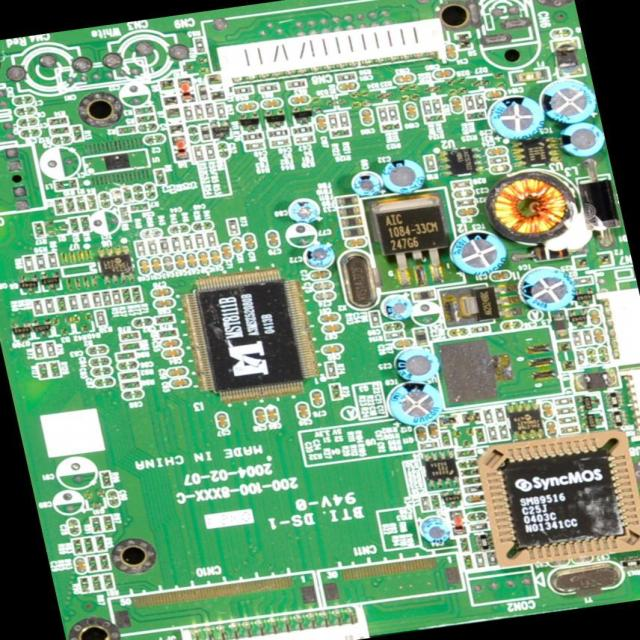Capacitor: (54, 455, 100, 490), (51, 488, 86, 518), (287, 93, 313, 108), (65, 516, 82, 538), (11, 92, 35, 107), (259, 98, 285, 111), (358, 108, 376, 126), (402, 102, 420, 120), (105, 489, 122, 508), (265, 405, 281, 425), (392, 74, 418, 86), (140, 226, 164, 239), (88, 355, 112, 368), (448, 96, 464, 115), (184, 251, 200, 270), (539, 400, 555, 419), (483, 88, 508, 100), (336, 80, 359, 93), (321, 343, 344, 356), (430, 69, 454, 81), (242, 233, 258, 251), (90, 366, 114, 378), (586, 308, 602, 326), (490, 269, 512, 282), (117, 359, 139, 372), (190, 220, 213, 232), (308, 268, 331, 280), (87, 344, 110, 356), (490, 162, 511, 175), (253, 407, 268, 425), (310, 389, 324, 408), (235, 102, 257, 114), (168, 223, 190, 235), (313, 290, 335, 302), (448, 326, 470, 338), (133, 316, 153, 329), (501, 319, 521, 332), (19, 128, 42, 139), (311, 280, 334, 291), (144, 182, 158, 200), (266, 230, 280, 248), (197, 250, 211, 268), (94, 376, 115, 388), (296, 402, 310, 420), (415, 426, 429, 444), (544, 420, 558, 438), (150, 287, 172, 298), (229, 238, 244, 254), (162, 336, 182, 348), (150, 256, 164, 273), (138, 258, 152, 275), (162, 255, 176, 272), (208, 249, 222, 266), (315, 114, 328, 132), (132, 183, 145, 201), (74, 556, 87, 574), (453, 188, 474, 199), (457, 207, 478, 218), (153, 298, 174, 309), (322, 322, 343, 333), (394, 338, 415, 349), (464, 494, 485, 505), (467, 511, 488, 522), (320, 312, 339, 324), (172, 254, 186, 270), (592, 327, 605, 344), (486, 146, 506, 157), (457, 458, 477, 469), (17, 118, 38, 128), (345, 238, 366, 248), (161, 349, 182, 359), (169, 378, 190, 388), (216, 413, 230, 428), (221, 244, 233, 261), (122, 390, 142, 400), (15, 107, 37, 116), (383, 321, 401, 332), (597, 347, 610, 362), (168, 366, 187, 376), (427, 424, 440, 438), (550, 558, 570, 567), (586, 348, 598, 363), (572, 555, 591, 564)
Connector: (597, 286, 639, 368), (623, 365, 639, 444)
IC: (176, 262, 323, 405), (498, 448, 626, 550), (420, 450, 461, 490), (506, 400, 545, 442), (99, 246, 137, 284), (511, 137, 560, 166), (440, 147, 486, 176)
Resistor Network: (269, 136, 292, 150), (387, 104, 402, 124), (243, 140, 267, 152), (94, 308, 108, 328), (128, 201, 151, 213), (33, 253, 48, 271), (497, 422, 512, 440), (462, 94, 476, 113), (202, 143, 216, 162), (295, 134, 317, 146), (154, 314, 176, 326), (572, 275, 594, 287), (215, 101, 228, 121), (102, 514, 115, 534), (376, 106, 390, 124), (472, 93, 486, 111), (46, 252, 60, 270), (204, 230, 218, 248), (91, 290, 105, 308), (129, 285, 143, 303), (324, 361, 338, 379), (574, 348, 588, 366), (99, 470, 113, 488), (438, 430, 452, 448), (461, 474, 482, 486), (78, 576, 92, 594), (227, 217, 240, 236), (488, 155, 510, 166), (119, 331, 141, 342), (120, 380, 142, 391), (559, 424, 581, 435), (556, 405, 576, 417), (420, 99, 434, 116), (66, 294, 80, 311), (71, 538, 85, 555), (97, 554, 111, 571), (193, 104, 206, 122), (121, 185, 134, 203), (424, 155, 437, 173), (45, 340, 58, 358), (330, 382, 343, 400), (91, 516, 104, 534), (451, 179, 472, 190), (337, 112, 351, 128), (153, 170, 167, 186), (84, 194, 98, 210), (117, 206, 131, 222), (32, 343, 46, 359), (570, 331, 584, 347), (481, 408, 495, 424), (192, 145, 205, 162), (55, 296, 68, 313), (48, 361, 61, 378), (474, 427, 487, 444), (486, 425, 499, 442), (157, 328, 179, 338), (118, 372, 140, 382), (417, 440, 439, 450), (462, 484, 482, 495), (75, 195, 87, 213), (135, 239, 147, 257), (203, 103, 216, 119), (64, 197, 77, 213), (158, 237, 171, 253), (171, 236, 184, 252), (37, 363, 50, 379), (431, 98, 443, 115), (110, 288, 122, 305), (120, 287, 132, 304), (493, 406, 505, 423), (94, 535, 106, 552), (430, 494, 442, 511), (87, 555, 99, 572), (456, 198, 476, 208), (121, 341, 141, 351), (115, 351, 135, 361), (554, 396, 574, 406), (459, 467, 479, 477), (327, 114, 340, 129), (33, 222, 46, 237), (32, 300, 45, 315), (182, 106, 194, 122), (79, 216, 91, 232), (23, 255, 35, 271), (147, 239, 159, 255), (194, 232, 206, 248), (182, 234, 194, 250), (80, 293, 92, 309), (369, 310, 381, 326), (582, 330, 594, 346), (91, 574, 103, 590), (102, 574, 114, 590), (458, 538, 470, 554), (456, 448, 475, 458), (469, 522, 488, 532), (69, 218, 81, 233), (385, 331, 405, 340), (559, 415, 577, 425), (83, 538, 95, 553), (420, 496, 432, 511), (101, 290, 112, 306), (463, 554, 474, 570), (43, 298, 55, 312), (54, 198, 65, 213), (487, 551, 498, 566), (474, 553, 485, 568)
Transistor: (571, 284, 595, 308), (452, 428, 477, 450), (39, 269, 61, 291), (440, 490, 463, 511), (10, 320, 32, 341), (567, 308, 589, 329), (576, 394, 600, 412), (582, 412, 605, 430), (19, 274, 39, 293), (32, 320, 52, 338)
